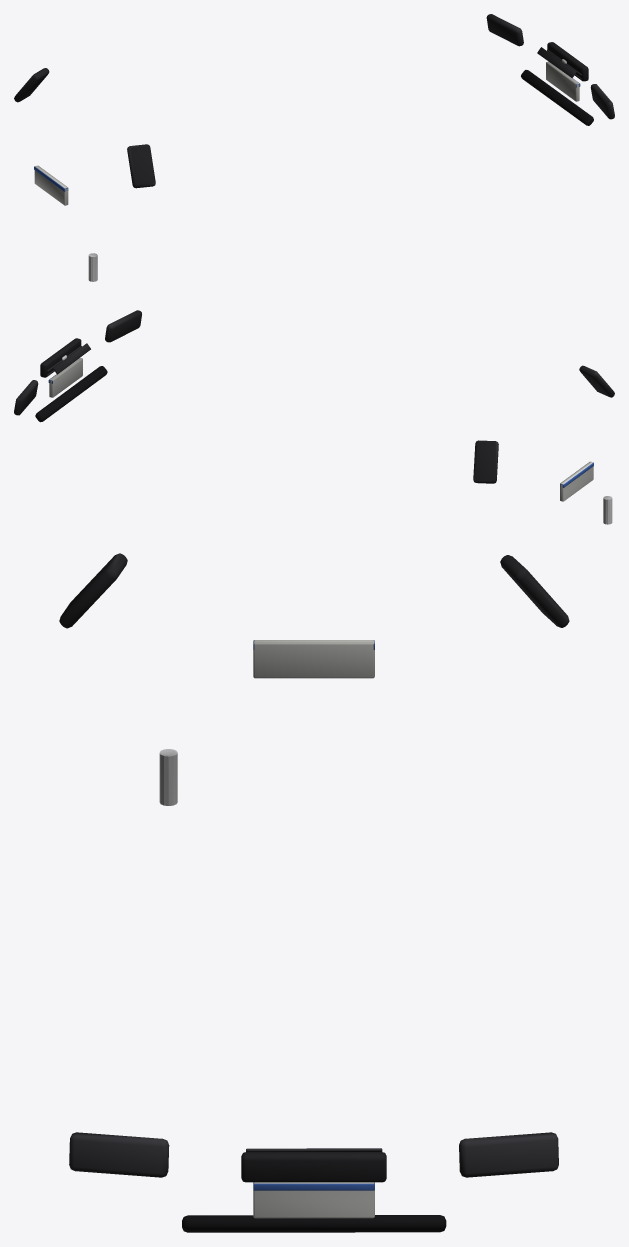
The model's file is Details.glb.
The picture shows the model from 3 angles, top to bottom: view 1: azimuth 30°, elevation 25°; view 2: azimuth 150°, elevation 25°; view 3: azimuth 270°, elevation 25°; orthographic projection. The views are drawn at different scales.
Parts seen in each view (by area): view 1: Details; view 2: Details; view 3: Details.
Boxes of the visible parts, x1=… form: Details: x1=14, y1=14, x2=614, y2=281; Details: x1=14, y1=310, x2=614, y2=524; Details: x1=59, y1=553, x2=569, y2=1232.
Size of the model in its own units: 3.96 by 0.9932 by 1.68.
